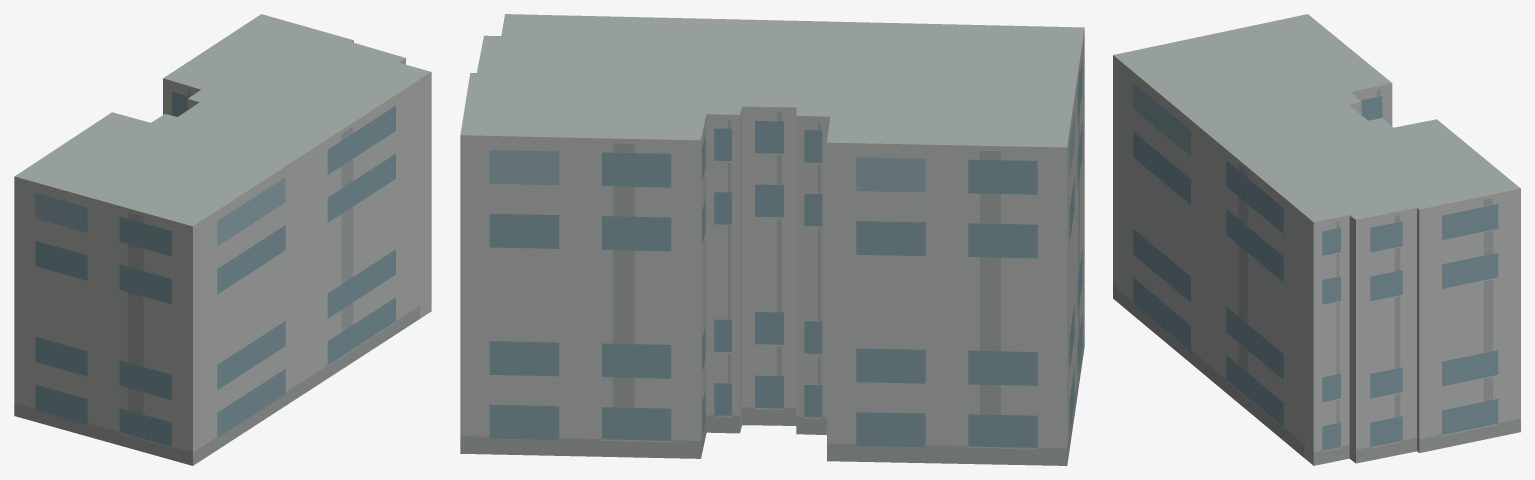
Rendered from survey-upis-32696550.glb.
The picture shows the model from 3 angles, left to right: view 1: azimuth 30°, elevation 25°; view 2: azimuth 150°, elevation 25°; view 3: azimuth 270°, elevation 25°; orthographic projection. The views are drawn at different scales.
Visible parts, largest first — view 1: survey-upis-32696550.tmp; view 2: survey-upis-32696550.tmp; view 3: survey-upis-32696550.tmp.
Part boxes in pixels (<box>): survey-upis-32696550.tmp: <box>14,14,431,465</box>; survey-upis-32696550.tmp: <box>460,14,1084,465</box>; survey-upis-32696550.tmp: <box>1113,14,1520,465</box>.
Size of the model in its own units: 27.99 by 15.25 by 23.15.
